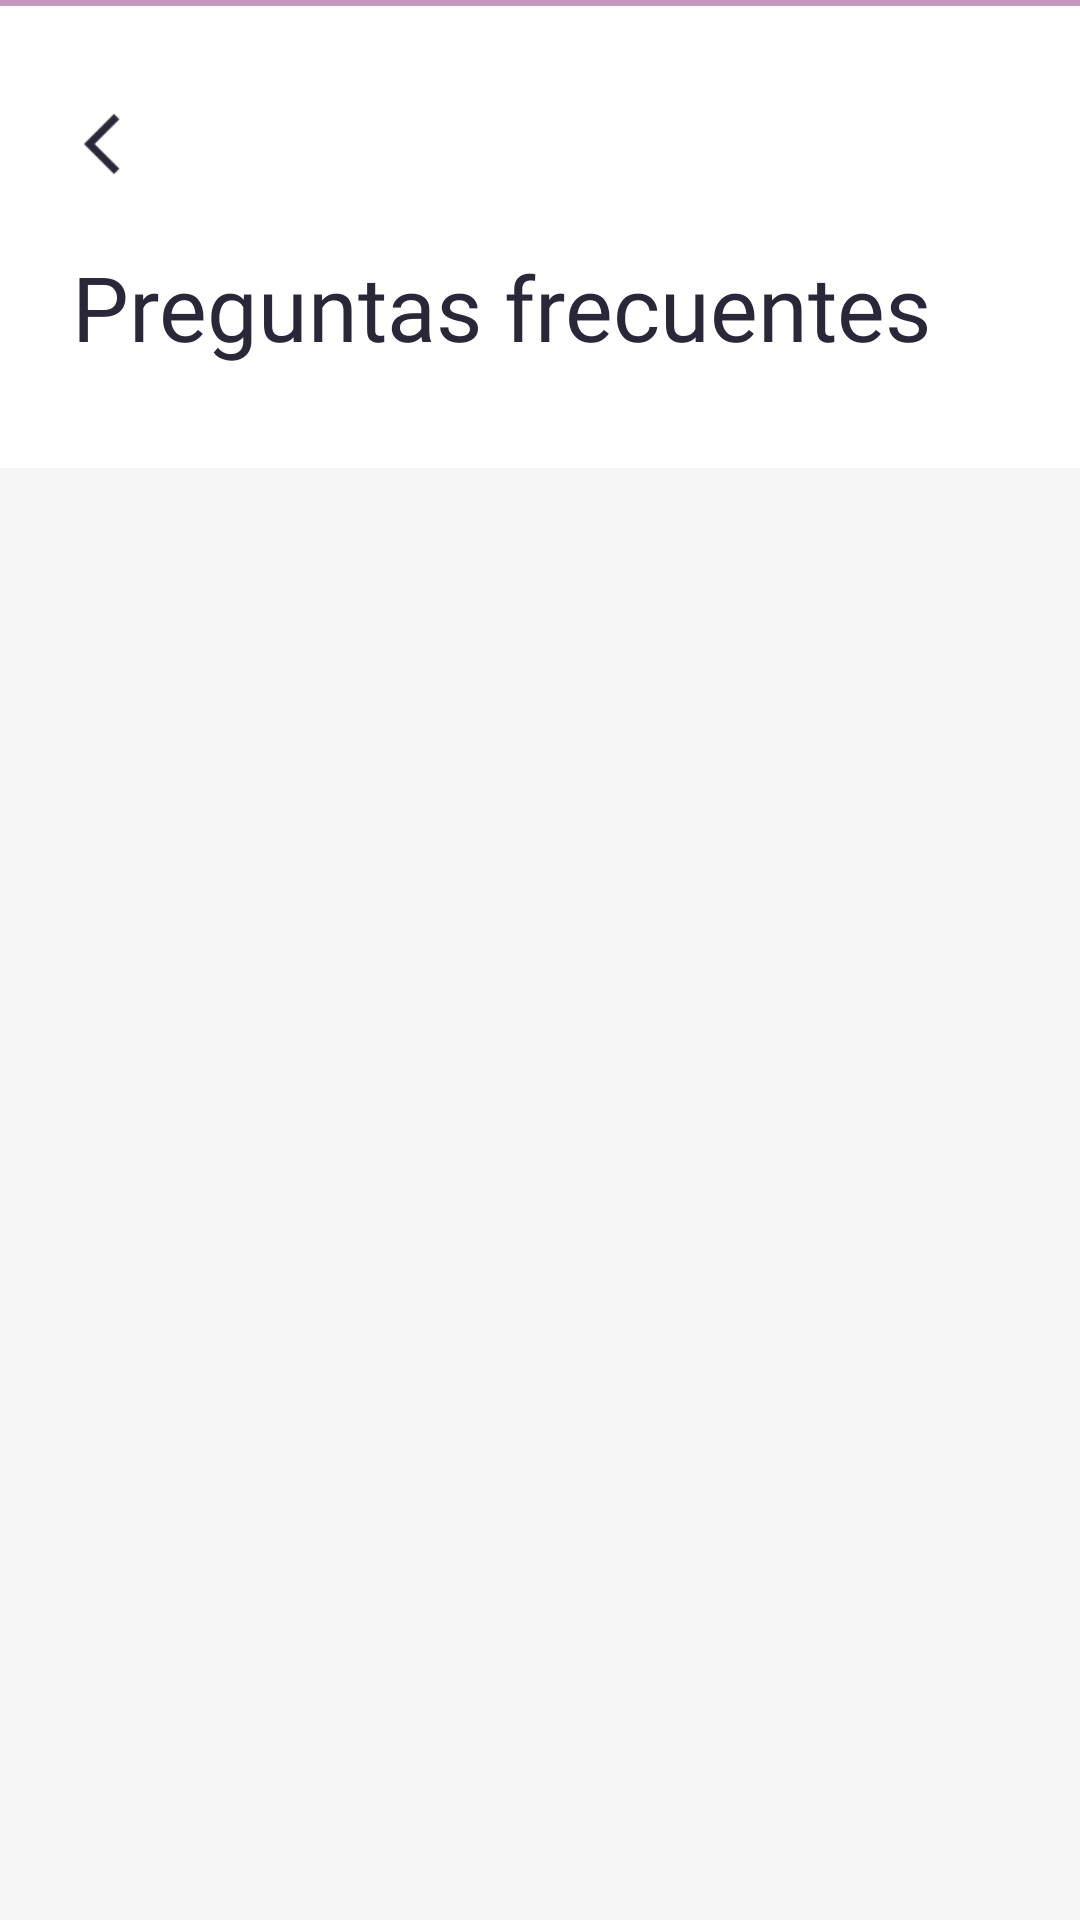

Named icons in this screenshot (1080×1920) and their bounding boxes, (x1, y1, x2, y2):
Volver: (84, 114, 120, 174)
